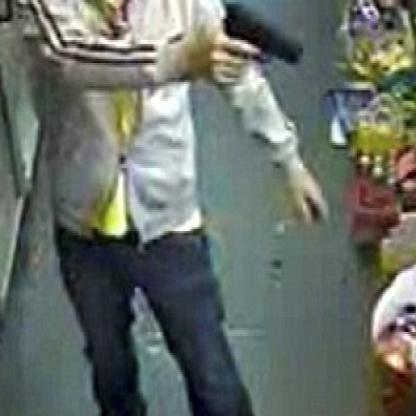gun: (214, 0, 312, 103)
